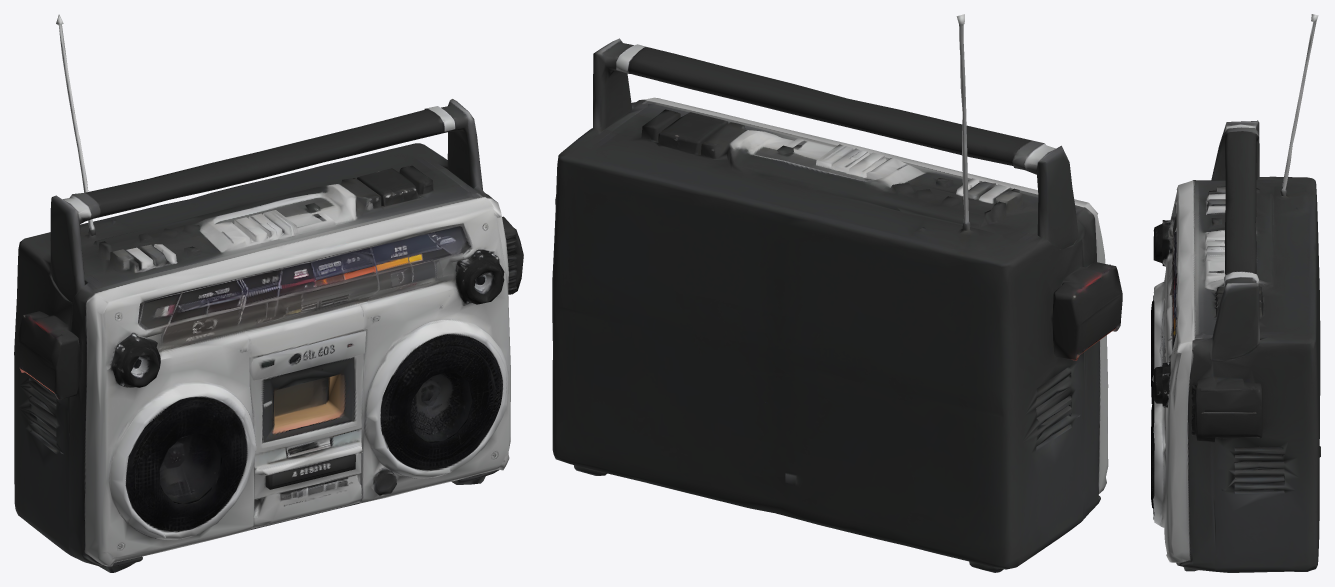
File: cassette_player.glb
3 renders of one model, left to right at view 1: azimuth 30°, elevation 25°; view 2: azimuth 150°, elevation 25°; view 3: azimuth 270°, elevation 25°, orthographic. The views are drawn at different scales.
Parts seen in each view (by area): view 1: tripo_node_e57b1021-058e-41bc-9be2-3fa85c5da12e; view 2: tripo_node_e57b1021-058e-41bc-9be2-3fa85c5da12e; view 3: tripo_node_e57b1021-058e-41bc-9be2-3fa85c5da12e.
Boxes of the visible parts, left/top/right/bottom form: tripo_node_e57b1021-058e-41bc-9be2-3fa85c5da12e: left=14, top=14, right=523, bottom=572; tripo_node_e57b1021-058e-41bc-9be2-3fa85c5da12e: left=552, top=14, right=1122, bottom=572; tripo_node_e57b1021-058e-41bc-9be2-3fa85c5da12e: left=1151, top=14, right=1320, bottom=572.
Bounding box in the file's own units: 0.9917 × 1 × 0.3712.
Materials: 1 (1 with a texture image).
